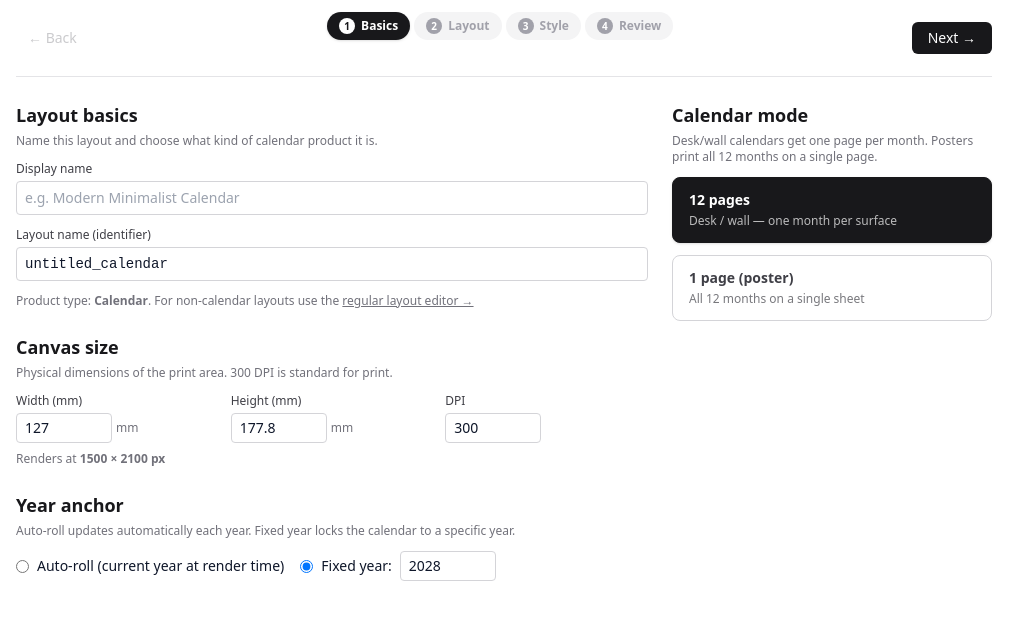
CalendarLayoutEditor — preview holidays › loads both years of a Financial range and dots the January it prints
Click the button "3 Style" at (543, 26), box x1=506 y1=12 x2=581 y2=40
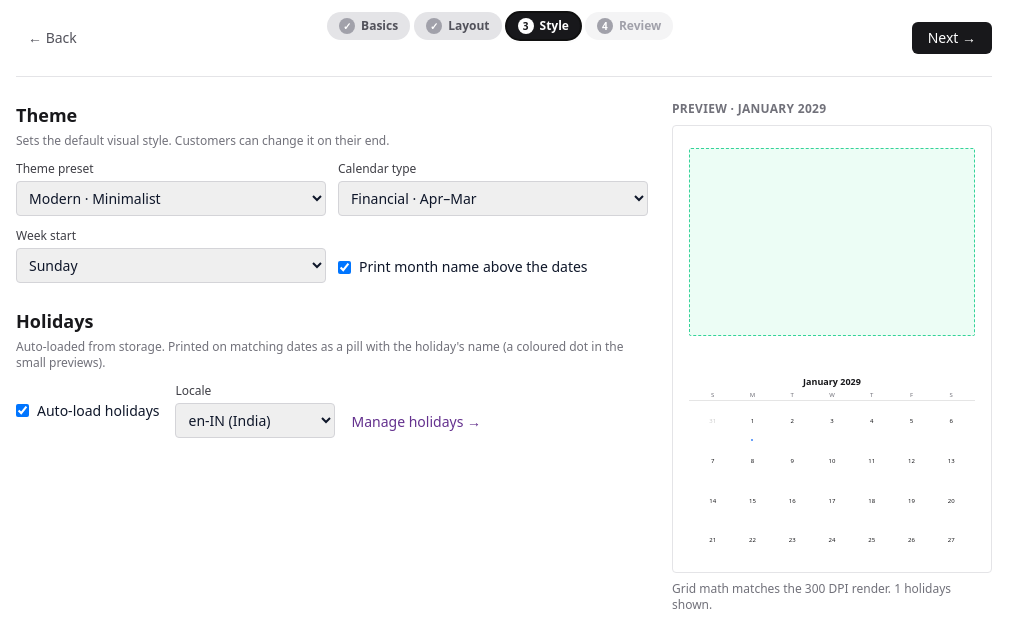
Check: the text "Grid math matches the 300 DPI render. 1 holidays shown." is shown, box x1=672 y1=581 x2=992 y2=613
